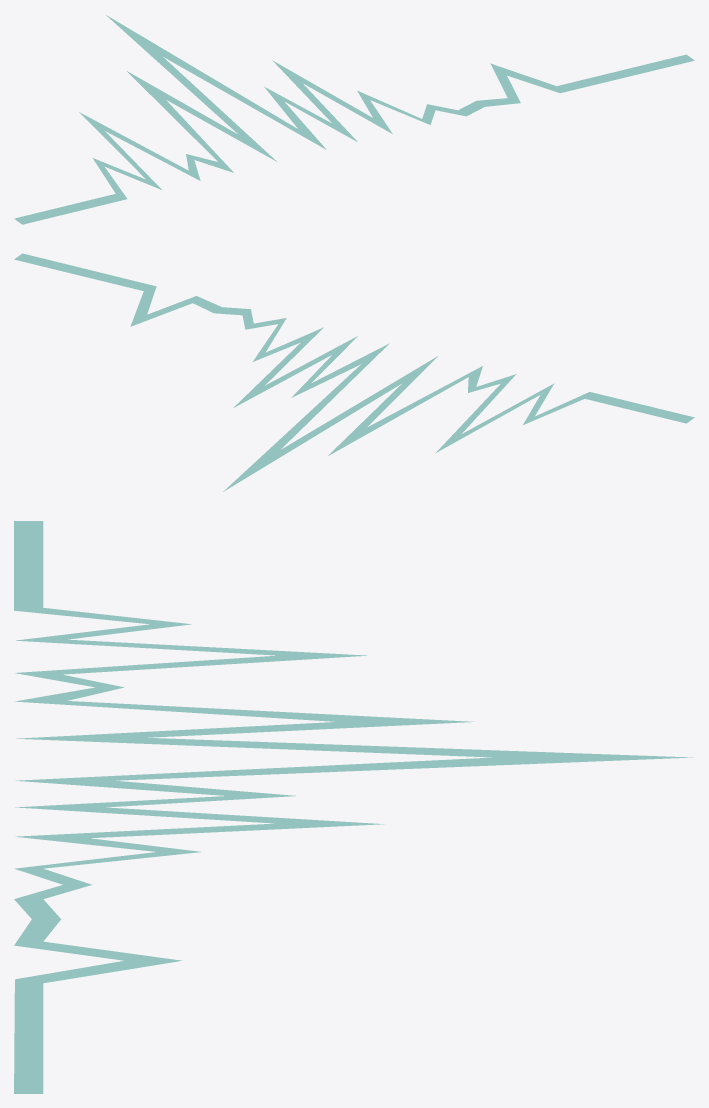
3 renders of one model, top to bottom at view 1: azimuth 30°, elevation 25°; view 2: azimuth 150°, elevation 25°; view 3: azimuth 270°, elevation 25°, orthographic. The views are drawn at different scales.
Visible parts, largest first — view 1: pPlane1; view 2: pPlane1; view 3: pPlane1.
Part boxes in pixels (x1,y1,x2,y2): pPlane1: [14, 15, 694, 224]; pPlane1: [14, 253, 694, 491]; pPlane1: [14, 521, 693, 1093].
Bounding box in the file's own units: 2.46 × 3.33e-16 × 1.24.
